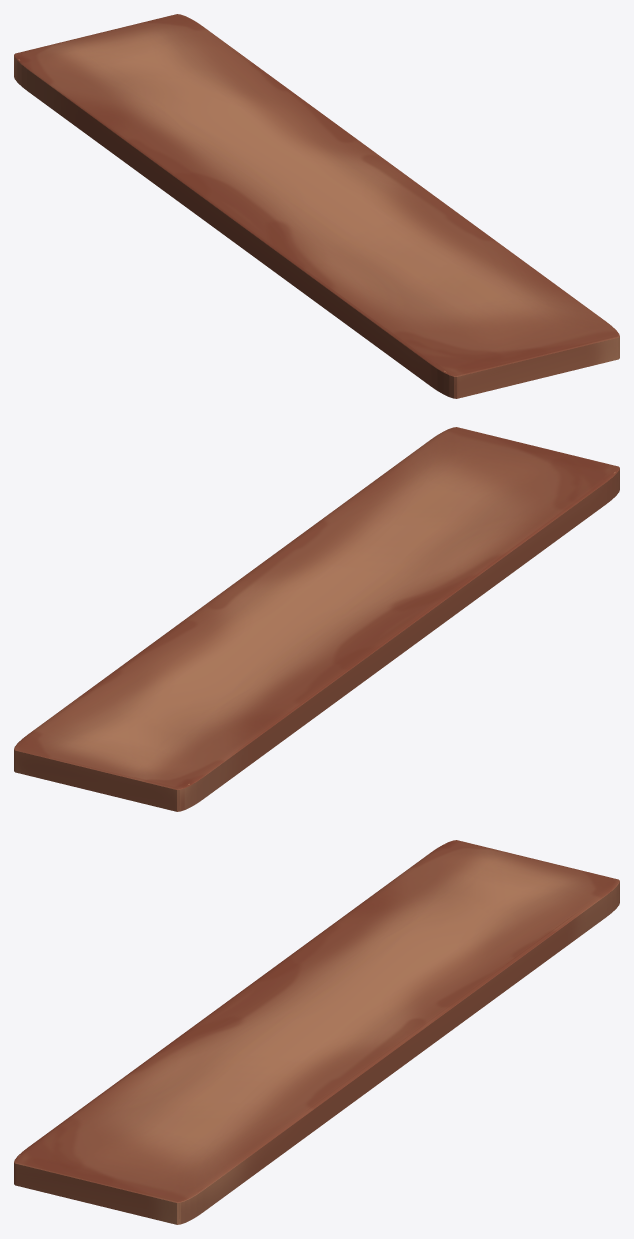
The model's file is tabuatextura.fbx.
3 renders of one model, top to bottom at view 1: azimuth 30°, elevation 25°; view 2: azimuth 150°, elevation 25°; view 3: azimuth 330°, elevation 25°, orthographic.
Visible parts, largest first — view 1: Cube; view 2: Cube; view 3: Cube.
Part boxes in pixels (x1,y1,x2,y2): Cube: (14,14,619,398); Cube: (14,427,619,811); Cube: (14,840,619,1224).
Size of the model in its own units: 228 by 29.79 by 992.
